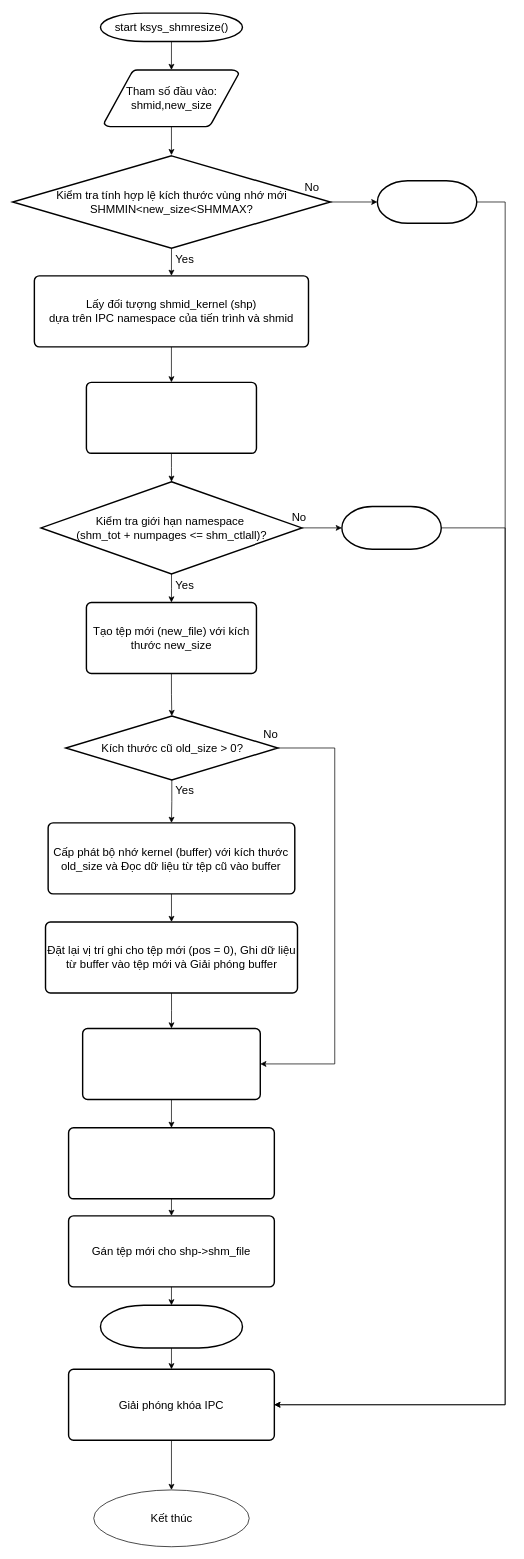
This 524x1559 diagram has some shape labels left out. The centre of each missing label's shape, as x and y in pixels:
"Cập nhật shm_segsz và shm_tot" goes at (171,1063).
"err = -EINVAL" goes at (426,202).
"err = -ENOSPC" goes at (391,528).
"err = 0 (Thành công)" goes at (171,1326).
"Giải phóng tệp cũ (shp->shm_file)" goes at (171,1163).
"Khóa đối tượng IPC (shp) để tránh xung đột" goes at (171,417).
